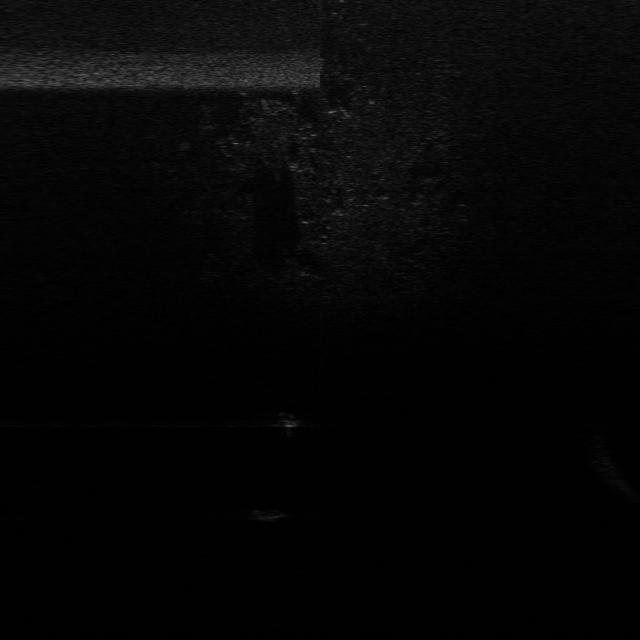cube: (247, 505, 287, 522)
square cage: (272, 410, 303, 430)
